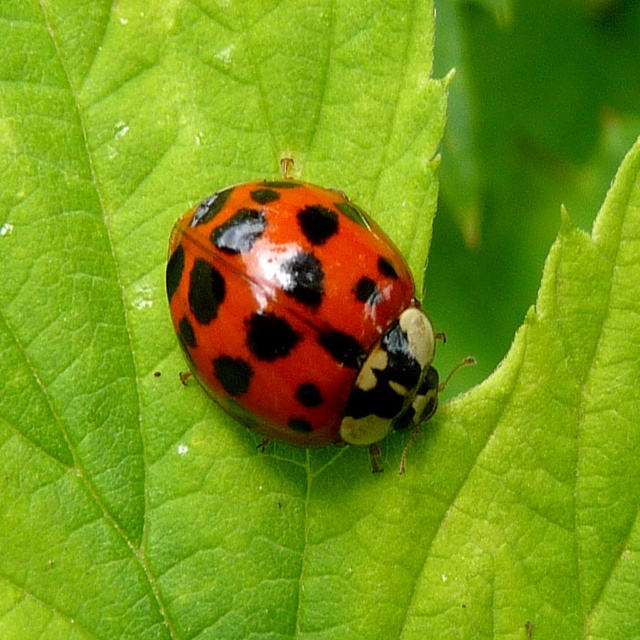Ladybug: (160, 154, 476, 477)
